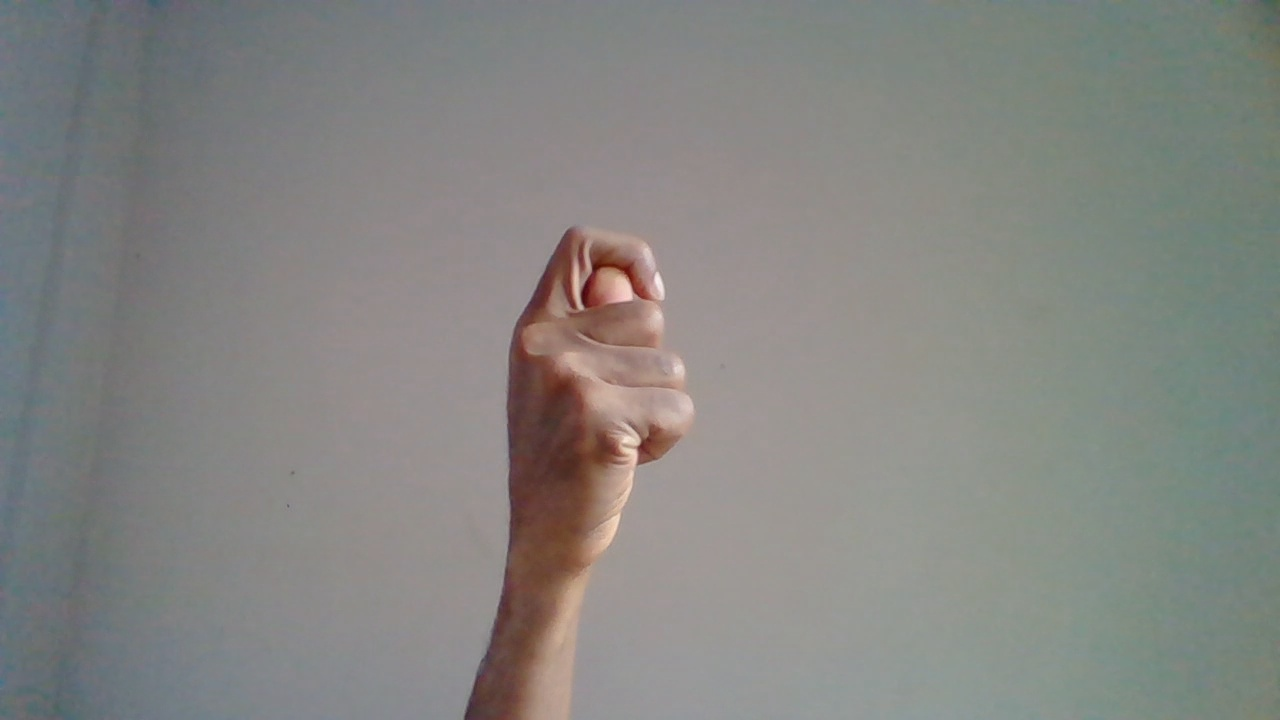che: (500, 219, 705, 701)
